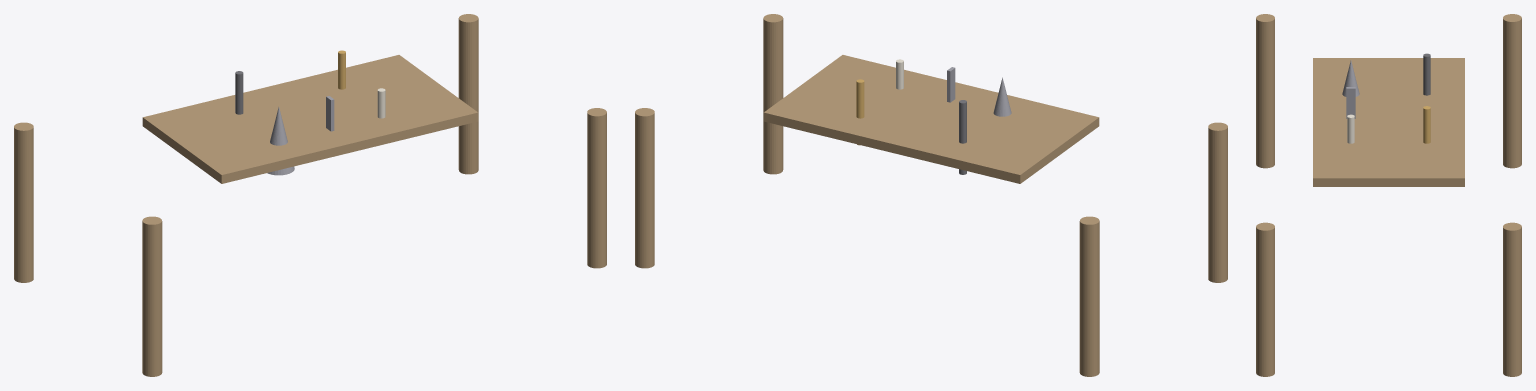
Rendered from tool_props.glb.
3 renders of one model, left to right at view 1: azimuth 30°, elevation 25°; view 2: azimuth 150°, elevation 25°; view 3: azimuth 270°, elevation 25°, orthographic. The views are drawn at different scales.
Parts seen in each view (by area): view 1: bench_top, bench_leg_-1.3_-0.65, bench_leg_1.3_-0.65, bench_leg_-1.3_0.65, bench_leg_1.3_0.65, tool_adze; view 2: bench_top, bench_leg_-1.3_0.65, bench_leg_1.3_0.65, bench_leg_-1.3_-0.65, bench_leg_1.3_-0.65; view 3: bench_top, bench_leg_1.3_0.65, bench_leg_1.3_-0.65, bench_leg_-1.3_0.65, bench_leg_-1.3_-0.65, tool_tongs, tool_fork, tool_knife, tool_adze, tool_awl.
Part boxes in pixels (box(x1,y1,x2,y2)): bench_top: box(142, 55, 478, 183); bench_leg_-1.3_-0.65: box(142, 216, 162, 376); bench_leg_1.3_-0.65: box(587, 108, 606, 268); bench_leg_-1.3_0.65: box(14, 122, 33, 282); bench_leg_1.3_0.65: box(458, 14, 478, 174); tool_adze: box(267, 107, 294, 175); bench_top: box(763, 55, 1099, 183); bench_leg_-1.3_0.65: box(1079, 216, 1099, 376); bench_leg_1.3_0.65: box(635, 108, 654, 268); bench_leg_-1.3_-0.65: box(1208, 122, 1227, 282); bench_leg_1.3_-0.65: box(763, 14, 783, 174); bench_top: box(1313, 58, 1464, 186); bench_leg_1.3_0.65: box(1503, 222, 1521, 376); bench_leg_1.3_-0.65: box(1256, 222, 1274, 376); bench_leg_-1.3_0.65: box(1503, 14, 1521, 168); bench_leg_-1.3_-0.65: box(1256, 14, 1274, 168); tool_tongs: box(1423, 53, 1430, 95); tool_fork: box(1423, 106, 1430, 143); tool_knife: box(1346, 87, 1355, 118); tool_adze: box(1342, 60, 1359, 96); tool_awl: box(1347, 114, 1354, 143).
Bounding box in the file's own units: 2.7 × 1.1 × 1.4.
